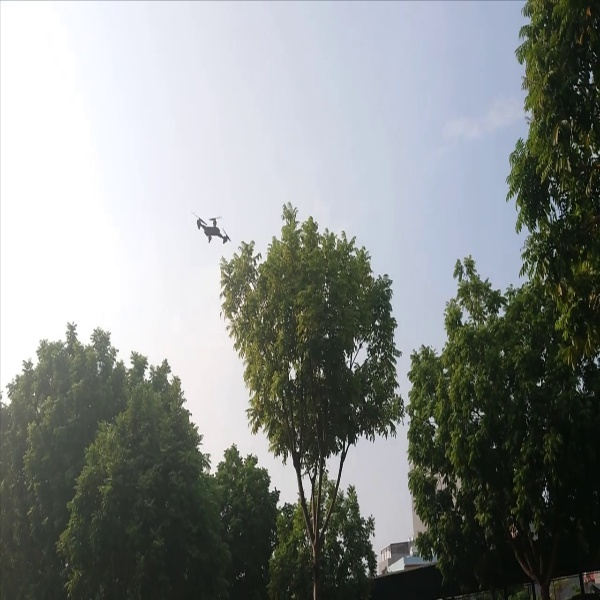drone: (185, 210, 236, 245)
